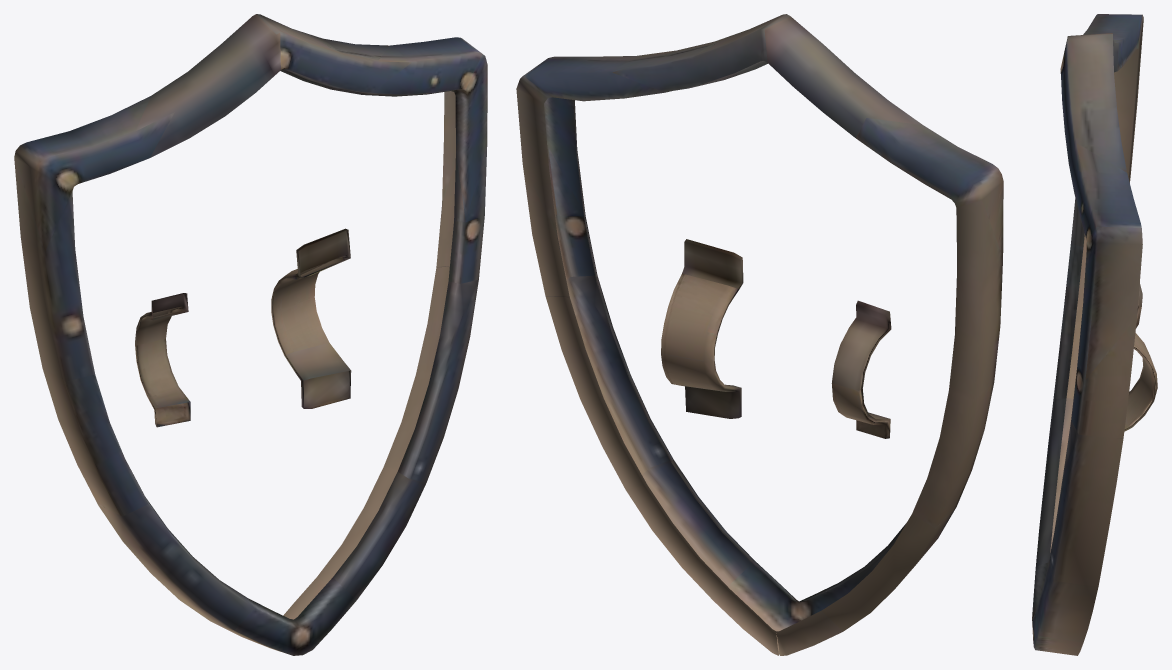
The model's file is g_shield_crest.fbx.
The picture shows the model from 3 angles, left to right: view 1: azimuth 30°, elevation 25°; view 2: azimuth 150°, elevation 25°; view 3: azimuth 270°, elevation 25°; orthographic projection. The views are drawn at different scales.
Parts seen in each view (by area): view 1: tripo_node_d0828fa2-9e41-4022-a397-787096797569; view 2: tripo_node_d0828fa2-9e41-4022-a397-787096797569; view 3: tripo_node_d0828fa2-9e41-4022-a397-787096797569.
Boxes of the visible parts, left/top/right/bottom form: tripo_node_d0828fa2-9e41-4022-a397-787096797569: left=14, top=14, right=487, bottom=655; tripo_node_d0828fa2-9e41-4022-a397-787096797569: left=516, top=14, right=1003, bottom=655; tripo_node_d0828fa2-9e41-4022-a397-787096797569: left=1032, top=14, right=1157, bottom=655.
Size of the model in its own units: 0.7226 by 0.95 by 0.175.
1 material, 1 textured.
